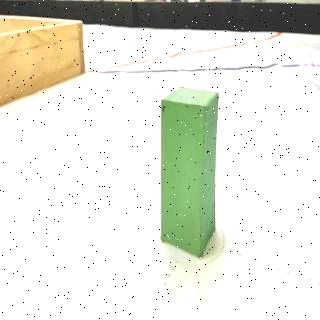greenbox: (159, 85, 222, 258)
